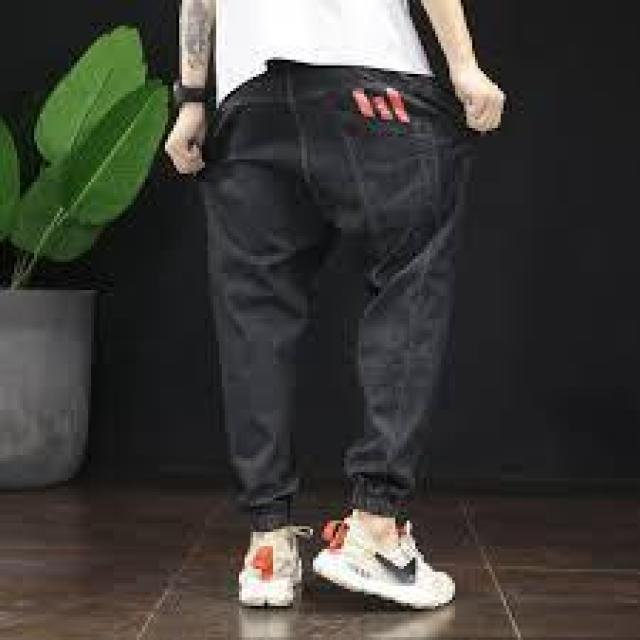pants: (192, 60, 471, 529)
